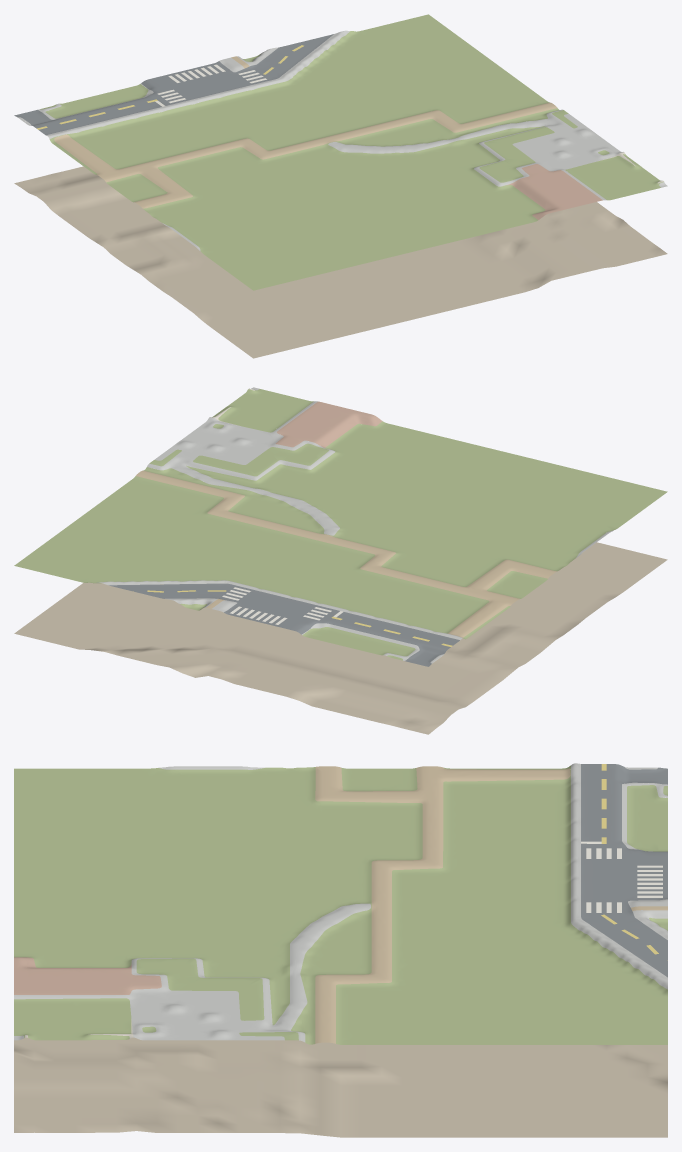
3 views of the same model, one above another, from view 1: azimuth 30°, elevation 25°; view 2: azimuth 150°, elevation 25°; view 3: azimuth 270°, elevation 25° (orthographic). The views are drawn at different scales.
Parts seen in each view (by area): view 1: s_-4_-1__grass, s_-4_-1__soil, s_-4_-1__stone_paving, s_-4_-1__asphalt, s_-4_-1__timber_deck, s_-4_-1__brick_paving, s_-4_-1__white_marking; view 2: s_-4_-1__grass, s_-4_-1__soil, s_-4_-1__stone_paving, s_-4_-1__asphalt, s_-4_-1__timber_deck, s_-4_-1__brick_paving, s_-4_-1__white_marking; view 3: s_-4_-1__grass, s_-4_-1__soil, s_-4_-1__stone_paving, s_-4_-1__asphalt, s_-4_-1__timber_deck, s_-4_-1__brick_paving, s_-4_-1__white_marking.
Part boxes in pixels (<box>): s_-4_-1__grass: <box>40,14,663,290</box>; s_-4_-1__soil: <box>14,153,667,358</box>; s_-4_-1__stone_paving: <box>18,30,667,250</box>; s_-4_-1__asphalt: <box>14,34,333,135</box>; s_-4_-1__timber_deck: <box>54,56,557,208</box>; s_-4_-1__brick_paving: <box>506,164,602,219</box>; s_-4_-1__white_marking: <box>155,64,266,106</box>; s_-4_-1__grass: <box>14,389,667,660</box>; s_-4_-1__soil: <box>14,542,667,734</box>; s_-4_-1__stone_paving: <box>97,387,613,663</box>; s_-4_-1__asphalt: <box>109,583,459,666</box>; s_-4_-1__timber_deck: <box>136,470,556,637</box>; s_-4_-1__brick_paving: <box>275,401,382,447</box>; s_-4_-1__white_marking: <box>222,587,343,624</box>; s_-4_-1__grass: <box>14,765,667,1044</box>; s_-4_-1__soil: <box>14,1035,667,1137</box>; s_-4_-1__stone_paving: <box>14,763,667,1042</box>; s_-4_-1__asphalt: <box>581,764,667,977</box>; s_-4_-1__timber_deck: <box>315,766,667,1043</box>; s_-4_-1__brick_paving: <box>14,957,161,994</box>; s_-4_-1__white_marking: <box>581,841,662,912</box>.
Size of the model in its own units: 128 by 21.7 by 128.
